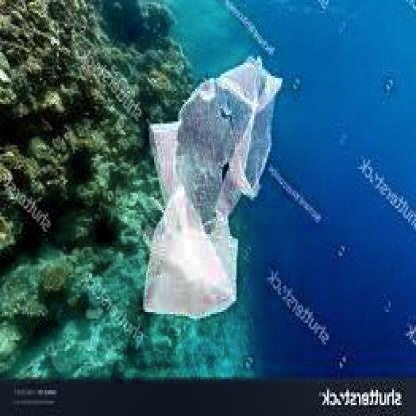pbag: (141, 57, 286, 318)
